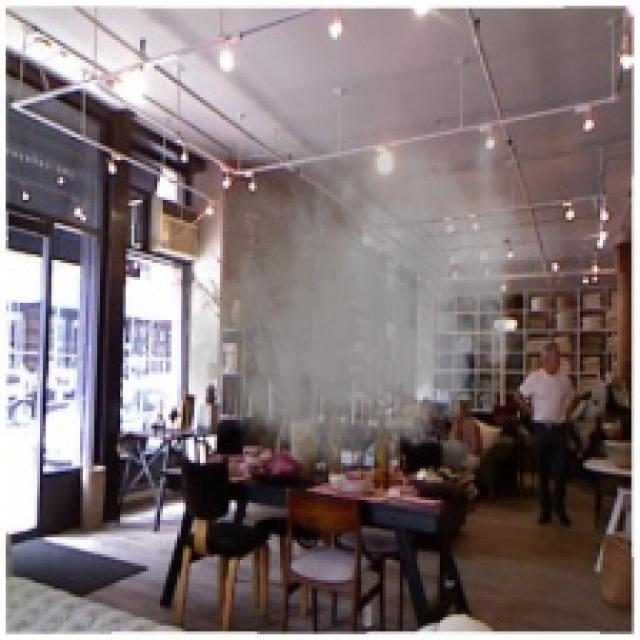smoke: (172, 103, 537, 494)
